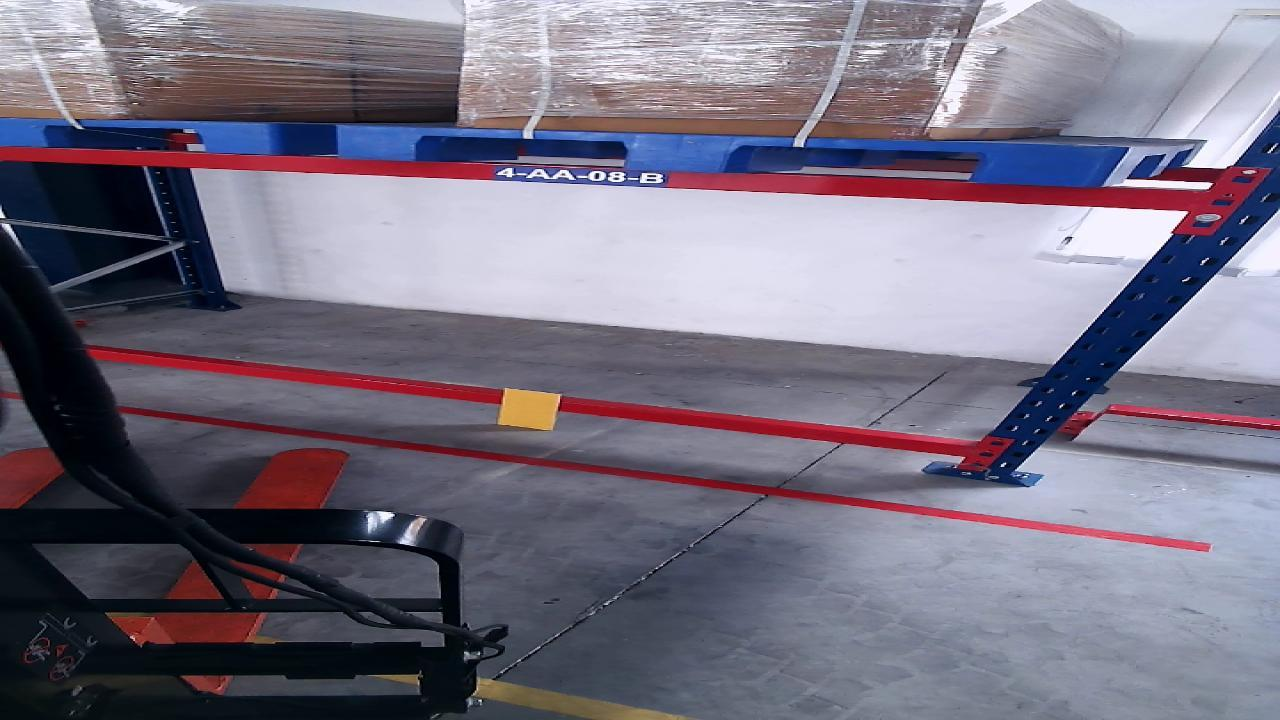h_rack: (87, 349, 975, 457), (4, 145, 1197, 211)
orange_strip: (499, 389, 557, 430)
red_line: (121, 406, 1209, 551)
small_pallet: (339, 126, 1128, 186), (3, 117, 279, 154)
